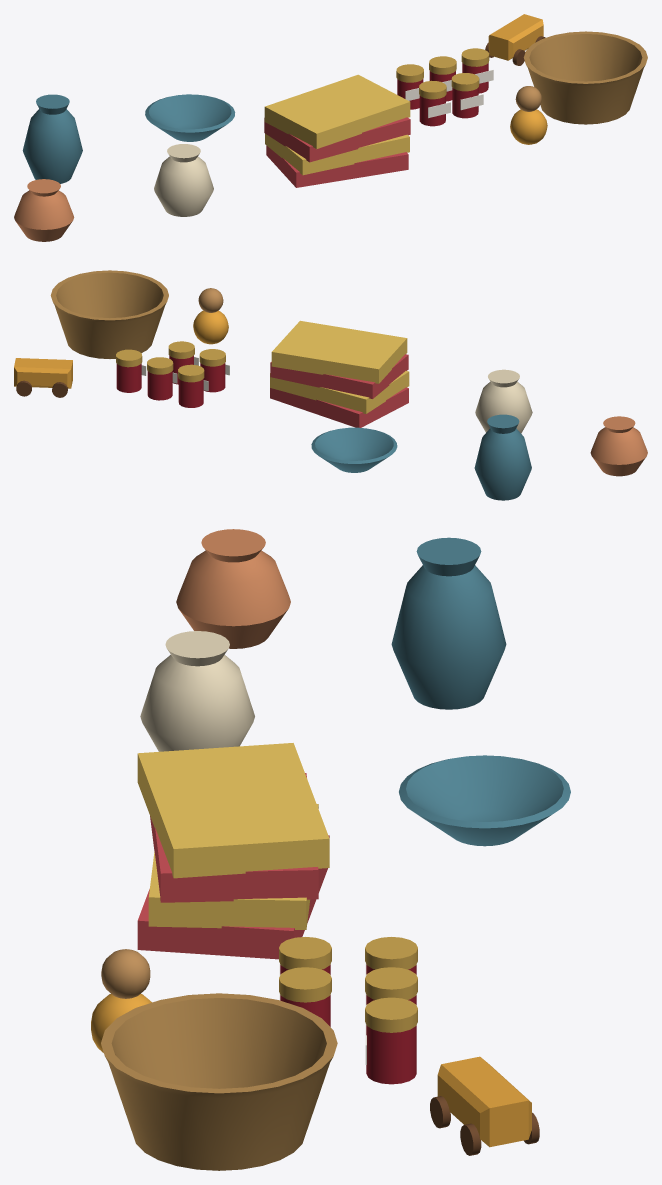
File: goods-crafts.glb
3 views of the same model, one above another, from view 1: azimuth 30°, elevation 25°; view 2: azimuth 150°, elevation 25°; view 3: azimuth 270°, elevation 25° (orthographic). The views are drawn at different scales.
Visible parts, largest first — view 1: basket28, yarnB7, glaze1, glazeB2, glaze3, clay0, yarnA4, yarnA6, yarnB5, toy29, toy35, jam20 (+8 smaller); view 2: basket28, yarnB7, glaze1, glaze3, clay0, glazeB2, yarnA4, yarnB5, yarnA6, toy29, toy35, jam12 (+9 smaller); view 3: basket28, yarnB7, glaze1, glaze3, glazeB2, clay0, toy29, yarnA6, yarnB5, yarnA4, jam16, woodTop36 (+6 smaller).
Boxes of the visible parts, x1=… form: basket28: x1=523, y1=31, x2=647, y2=124; yarnB7: x1=264, y1=74, x2=410, y2=148; glaze1: x1=22, y1=94, x2=82, y2=183; glazeB2: x1=154, y1=144, x2=213, y2=216; glaze3: x1=145, y1=94, x2=235, y2=141; clay0: x1=14, y1=179, x2=74, y2=241; yarnA4: x1=266, y1=145, x2=408, y2=187; yarnA6: x1=264, y1=117, x2=410, y2=162; yarnB5: x1=265, y1=133, x2=409, y2=175; toy29: x1=488, y1=14, x2=543, y2=60; toy35: x1=510, y1=109, x2=547, y2=144; jam20: x1=419, y1=95, x2=445, y2=126; basket28: x1=50, y1=270, x2=168, y2=358; yarnB7: x1=271, y1=320, x2=407, y2=383; glaze1: x1=474, y1=414, x2=531, y2=500; glaze3: x1=311, y1=427, x2=397, y2=472; clay0: x1=590, y1=416, x2=647, y2=476; glazeB2: x1=475, y1=369, x2=532, y2=433; yarnA4: x1=270, y1=387, x2=408, y2=427; yarnB5: x1=270, y1=371, x2=409, y2=413; yarnA6: x1=270, y1=354, x2=408, y2=398; toy29: x1=14, y1=358, x2=72, y2=388; toy35: x1=193, y1=310, x2=228, y2=344; jam12: x1=147, y1=371, x2=172, y2=400; basket28: x1=101, y1=993, x2=337, y2=1170; yarnB7: x1=137, y1=743, x2=329, y2=878; glaze1: x1=391, y1=537, x2=506, y2=709; glaze3: x1=399, y1=755, x2=570, y2=846; glazeB2: x1=140, y1=631, x2=254, y2=751; clay0: x1=176, y1=529, x2=290, y2=648; toy29: x1=437, y1=1056, x2=531, y2=1147; yarnA6: x1=150, y1=773, x2=318, y2=902; yarnB5: x1=148, y1=804, x2=318, y2=929; yarnA4: x1=137, y1=835, x2=329, y2=959; jam16: x1=366, y1=1025, x2=416, y2=1084; woodTop36: x1=101, y1=949, x2=150, y2=998.
Bounding box in the file's own units: 1.9 × 0.2205 × 0.6687.
